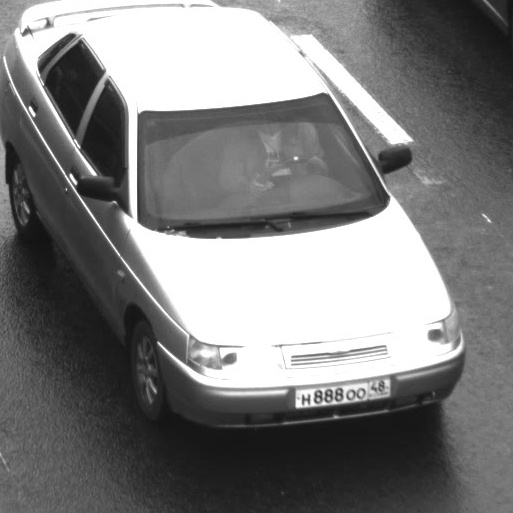plate: (283, 367, 399, 418)
